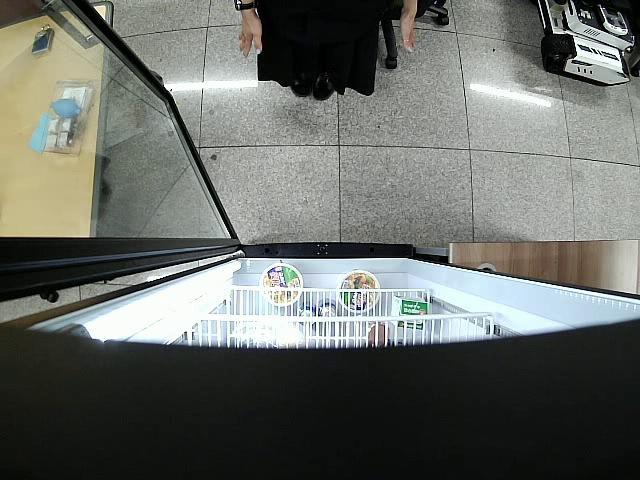00_hand: (237, 17, 267, 63), (397, 7, 421, 56)
